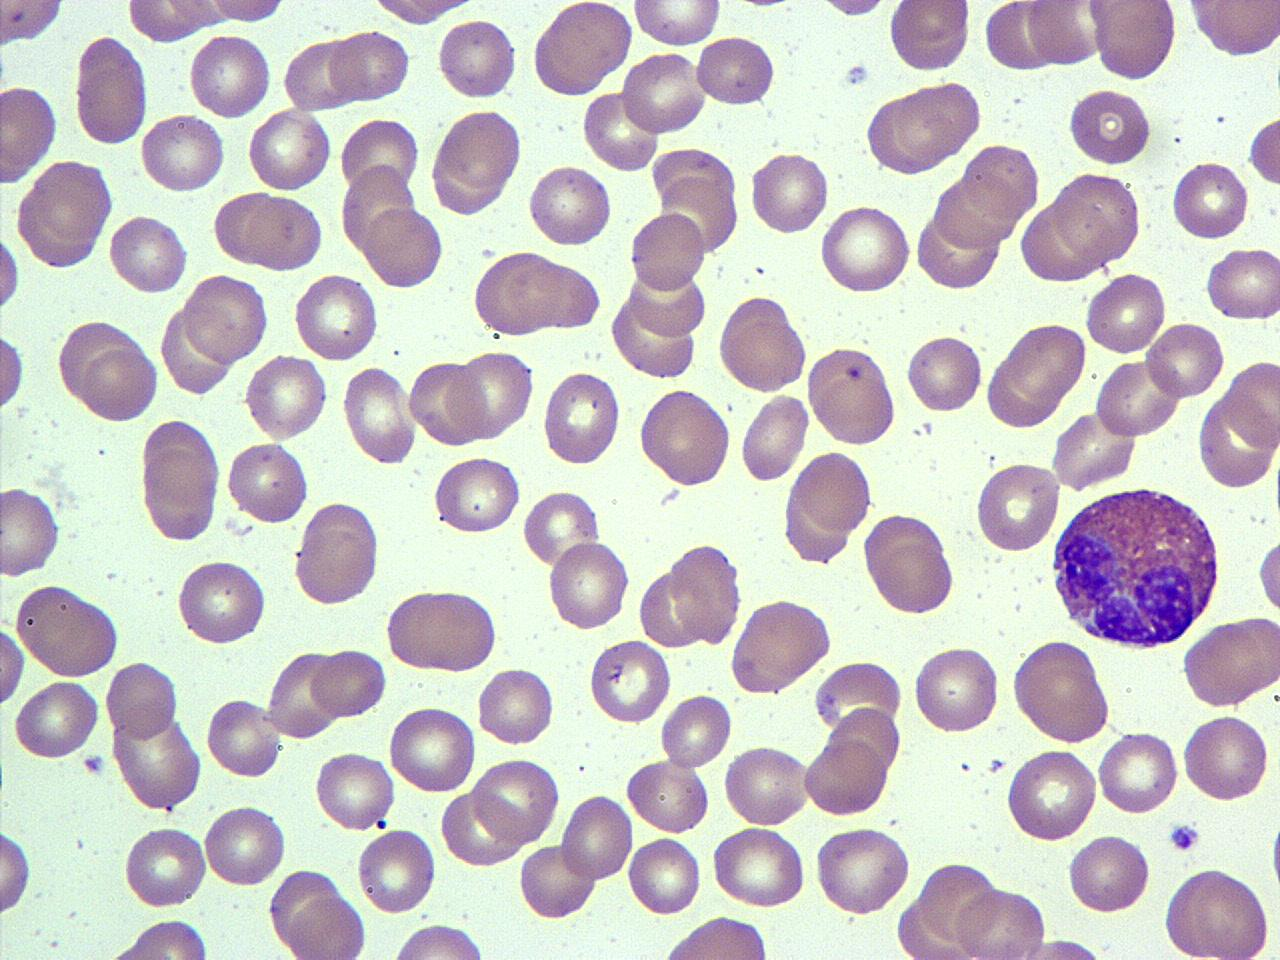Platelets: (1167, 821, 1203, 854), (1268, 814, 1280, 899), (842, 61, 872, 89), (82, 751, 108, 776)
RBC: (1010, 636, 1114, 744), (982, 319, 1083, 428), (17, 156, 117, 266), (1160, 864, 1274, 960), (13, 580, 123, 678), (728, 598, 837, 696), (860, 510, 958, 616), (384, 586, 501, 675), (637, 386, 733, 492), (531, 1, 635, 98), (141, 418, 220, 546), (716, 292, 811, 395), (804, 344, 898, 447), (812, 823, 912, 919), (292, 500, 382, 606), (1005, 744, 1099, 844), (819, 201, 915, 296), (1180, 616, 1278, 710), (112, 712, 204, 812), (1050, 169, 1142, 266), (912, 642, 1004, 738), (788, 446, 876, 546), (175, 555, 269, 647), (974, 458, 1062, 556), (1181, 709, 1271, 805), (708, 825, 808, 910), (340, 363, 420, 468), (666, 541, 746, 646), (386, 702, 478, 794), (182, 271, 271, 366), (540, 366, 622, 468), (447, 347, 535, 442), (74, 35, 147, 147), (545, 538, 631, 634), (12, 677, 104, 765), (471, 755, 560, 845), (246, 104, 334, 196), (721, 742, 813, 829), (431, 452, 524, 538), (121, 821, 209, 912), (1095, 726, 1181, 818), (292, 271, 378, 364), (470, 249, 560, 336), (222, 439, 310, 526), (588, 635, 672, 727), (188, 30, 272, 122), (201, 802, 287, 889), (243, 353, 329, 442), (863, 89, 947, 178), (1084, 267, 1168, 358), (622, 51, 709, 138), (139, 109, 226, 196), (1066, 830, 1152, 918), (748, 147, 830, 238), (559, 788, 635, 886), (1051, 406, 1137, 493), (894, 78, 980, 164), (528, 162, 614, 249), (1092, 356, 1180, 440), (313, 746, 397, 835), (363, 201, 444, 291), (438, 106, 524, 192), (914, 208, 1002, 291), (802, 735, 890, 819), (236, 191, 324, 274), (951, 883, 1046, 960), (337, 114, 422, 198), (355, 828, 438, 914), (1092, 0, 1178, 83), (624, 754, 712, 836), (1065, 86, 1153, 167), (476, 662, 557, 749), (408, 358, 486, 450), (158, 305, 234, 398), (436, 15, 518, 102), (268, 646, 342, 742), (510, 256, 603, 332), (108, 213, 190, 297), (581, 87, 660, 174), (904, 330, 984, 417), (738, 388, 810, 484), (1144, 318, 1226, 402), (1169, 158, 1251, 243), (205, 693, 283, 781), (628, 209, 708, 294), (516, 840, 596, 923), (521, 486, 602, 567), (624, 834, 703, 916), (693, 32, 777, 110), (328, 26, 410, 104), (80, 344, 159, 424), (104, 658, 178, 742), (888, 0, 972, 74), (0, 82, 58, 184), (658, 692, 732, 771), (0, 484, 61, 579), (310, 644, 388, 718), (1204, 245, 1278, 323), (652, 914, 776, 958), (984, 0, 1057, 75), (1185, 1, 1279, 58), (1024, 0, 1102, 69), (286, 894, 368, 958), (1226, 358, 1280, 450), (110, 915, 216, 959), (630, 0, 724, 48), (386, 920, 492, 958), (125, 0, 210, 43), (366, 0, 479, 29), (0, 824, 34, 919), (0, 0, 65, 48), (1247, 108, 1279, 192), (0, 614, 26, 716), (0, 325, 26, 416), (206, 0, 289, 26), (1256, 530, 1280, 618), (0, 225, 22, 320), (814, 0, 894, 21)
WBC: (1049, 482, 1225, 652), (533, 2, 639, 100)
